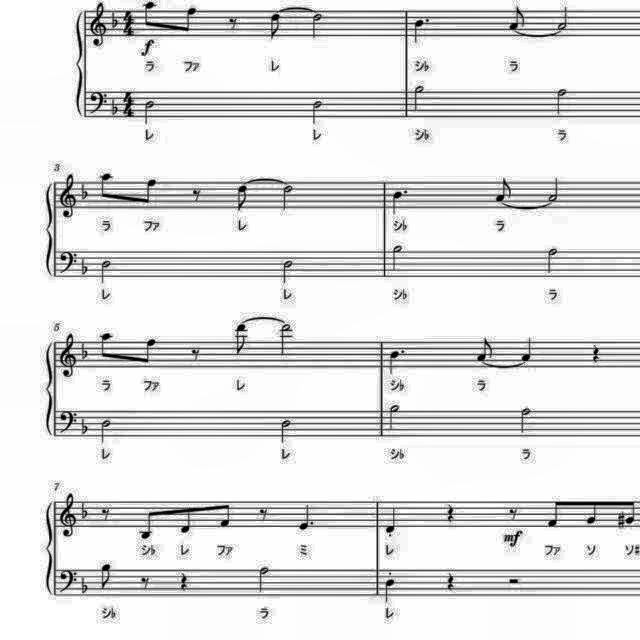Bass-clef: (57, 246, 81, 278), (56, 568, 80, 596), (89, 87, 111, 117), (58, 406, 80, 436)
Bemol: (108, 3, 122, 30), (77, 498, 91, 522), (108, 94, 122, 118), (79, 178, 91, 202), (78, 340, 90, 360), (78, 576, 90, 596), (78, 416, 90, 436), (78, 258, 90, 278)
Eighth-note: (96, 328, 120, 364), (138, 176, 162, 212), (180, 0, 204, 36), (96, 166, 118, 202), (545, 494, 567, 530), (136, 505, 158, 541), (472, 335, 498, 365), (266, 10, 288, 44), (138, 335, 160, 369), (504, 1, 528, 32), (492, 173, 516, 203), (180, 500, 200, 536), (232, 322, 252, 358), (233, 180, 254, 212), (96, 561, 116, 593), (214, 498, 234, 530), (140, 1, 160, 32), (584, 498, 604, 528), (622, 494, 640, 526)
Eighth-rest: (187, 184, 205, 206), (224, 11, 242, 33), (185, 344, 203, 364), (138, 571, 154, 593), (98, 504, 114, 524), (255, 502, 271, 522), (504, 502, 520, 522)
Half-note: (276, 322, 296, 360), (541, 245, 561, 279), (552, 85, 572, 119), (514, 403, 534, 437), (308, 96, 328, 128), (384, 402, 404, 434), (278, 256, 298, 288), (387, 244, 407, 276), (410, 81, 428, 115), (278, 183, 298, 213), (276, 415, 296, 445), (546, 176, 566, 206), (256, 564, 274, 596), (554, 4, 574, 32), (308, 11, 326, 41), (98, 257, 114, 287), (98, 416, 114, 446), (142, 98, 158, 126)
Half-rest: (503, 573, 523, 587)
Quarter-dot: (294, 500, 318, 532), (384, 346, 408, 378), (388, 186, 412, 218), (411, 14, 433, 46)
Quarter-note: (382, 506, 402, 538), (518, 335, 538, 363), (382, 576, 398, 606)
Quarter-rest: (439, 566, 457, 594), (175, 569, 192, 595), (439, 498, 456, 524), (586, 339, 602, 366)
Treble-clef: (58, 175, 82, 225), (58, 332, 82, 381), (59, 491, 81, 541), (86, 0, 108, 48)
